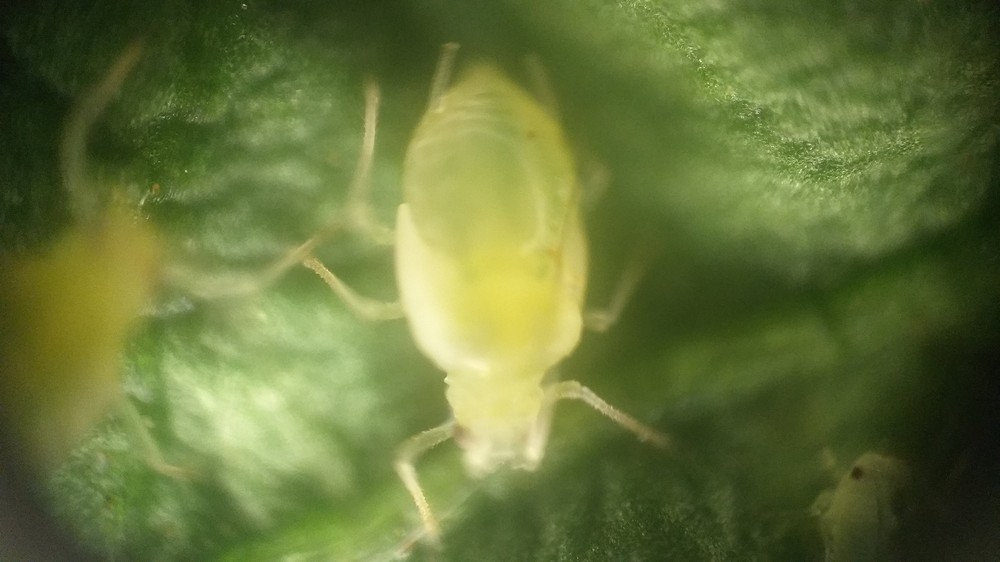Pulgon: (294, 48, 685, 541)
